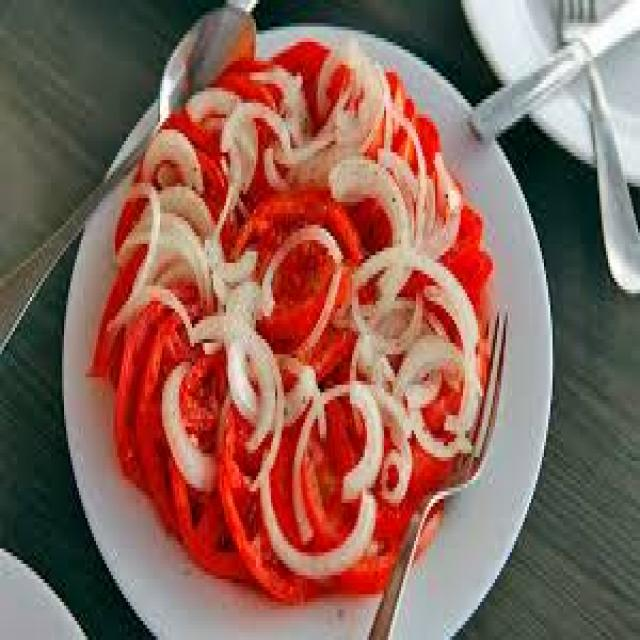organic waste: (83, 38, 493, 602), (339, 248, 489, 492), (128, 308, 254, 552), (166, 53, 326, 244), (113, 114, 248, 320), (220, 388, 339, 614), (264, 38, 414, 213), (374, 148, 488, 370), (226, 198, 365, 370), (320, 61, 435, 263), (113, 270, 226, 472), (168, 347, 266, 575), (298, 392, 409, 576), (90, 221, 186, 385), (344, 469, 439, 598)
